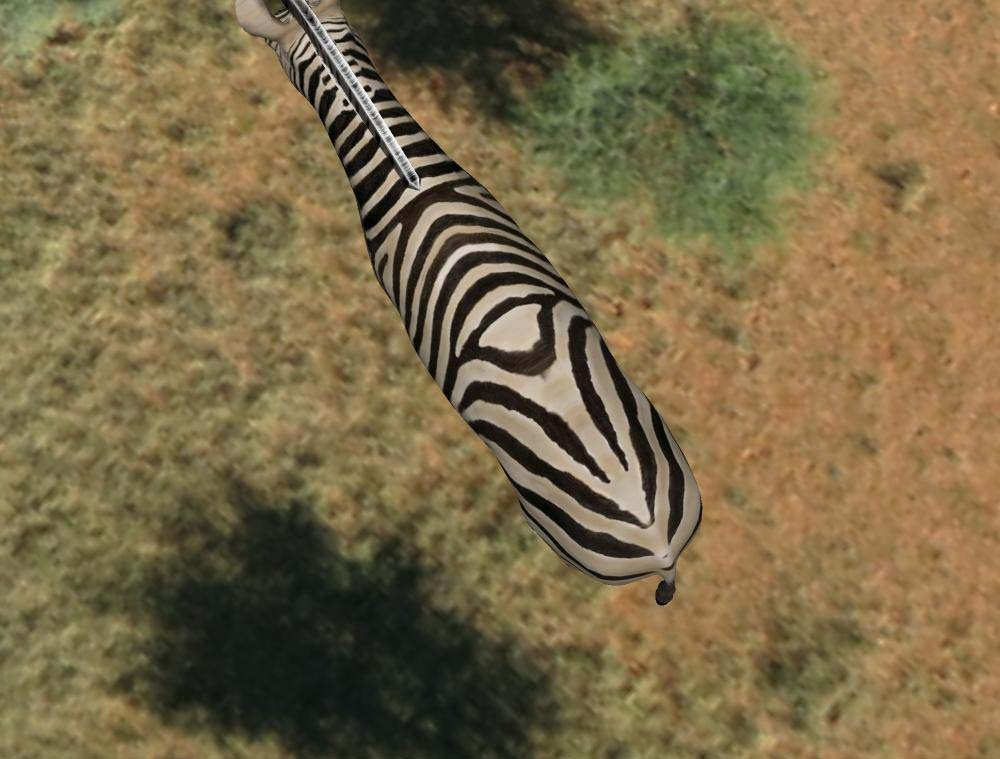zebra: (236, 1, 707, 610)
